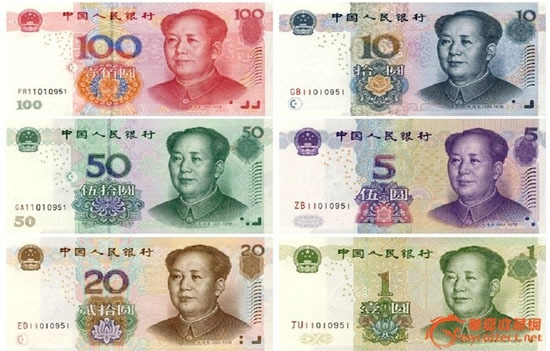rmb: (273, 1, 548, 115), (270, 121, 547, 233), (2, 119, 269, 235), (272, 237, 543, 351), (1, 1, 269, 115), (4, 239, 269, 351)
